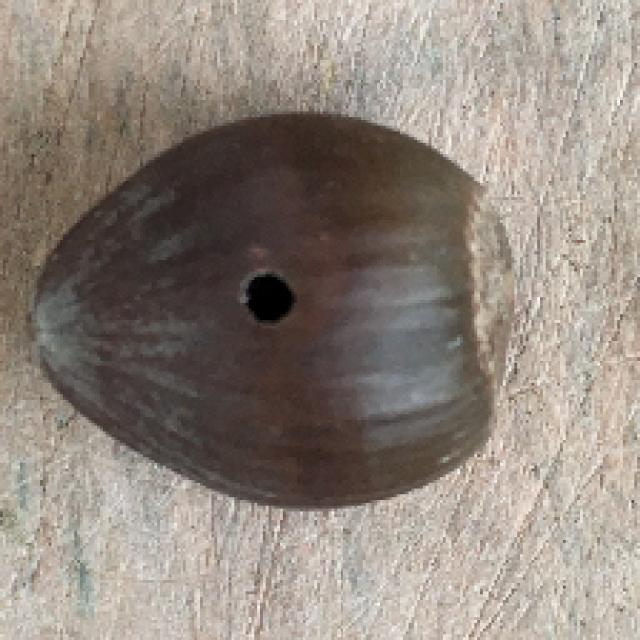damagedHazelnut: (29, 115, 526, 517)
